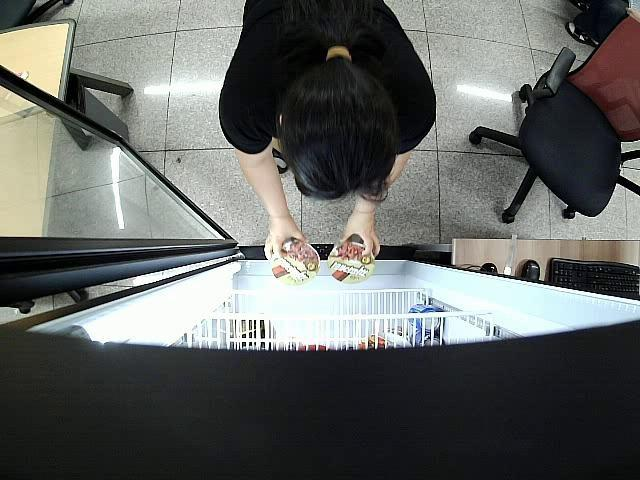03_chapagetti_L: (329, 232, 376, 284), (270, 240, 320, 286)
